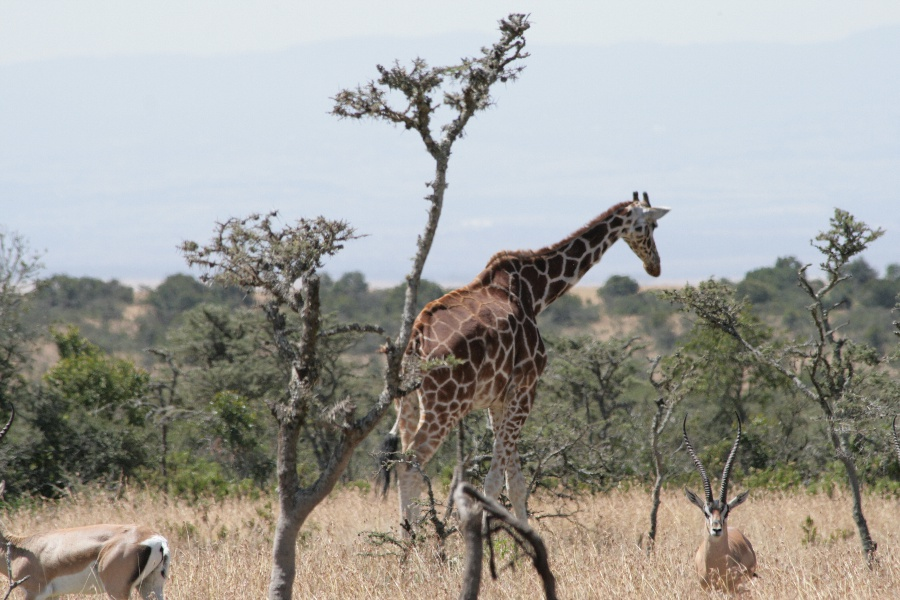giraffe: (376, 186, 677, 555)
